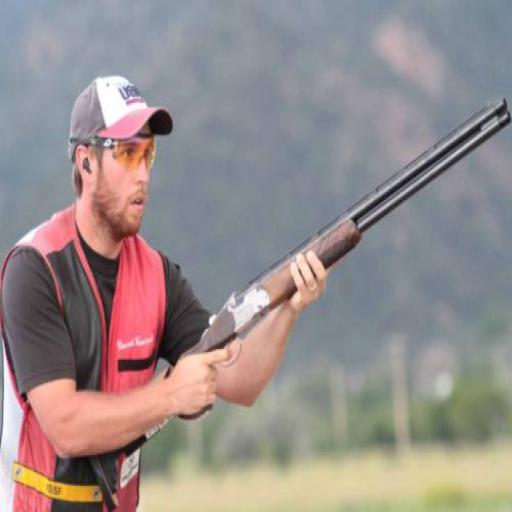shooting: (0, 72, 331, 510)
